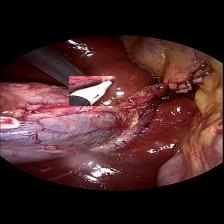Hook: (69, 75, 116, 105)
